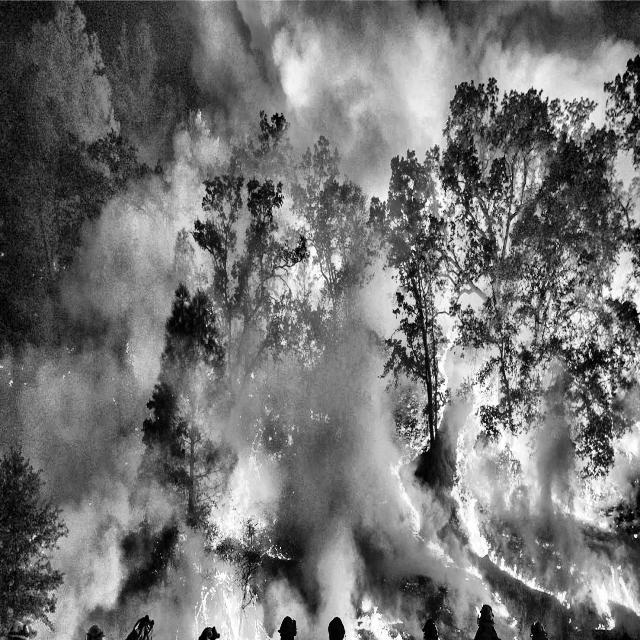fire: (137, 95, 638, 640)
